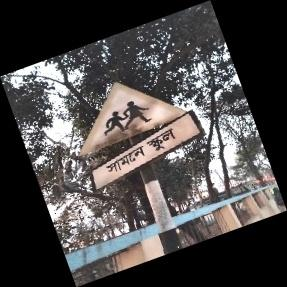School-in-front: (79, 82, 203, 191)
